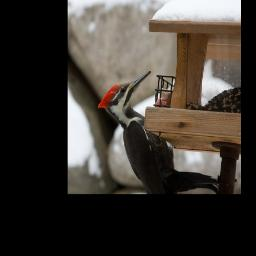Woodpecker: (90, 71, 226, 194)
